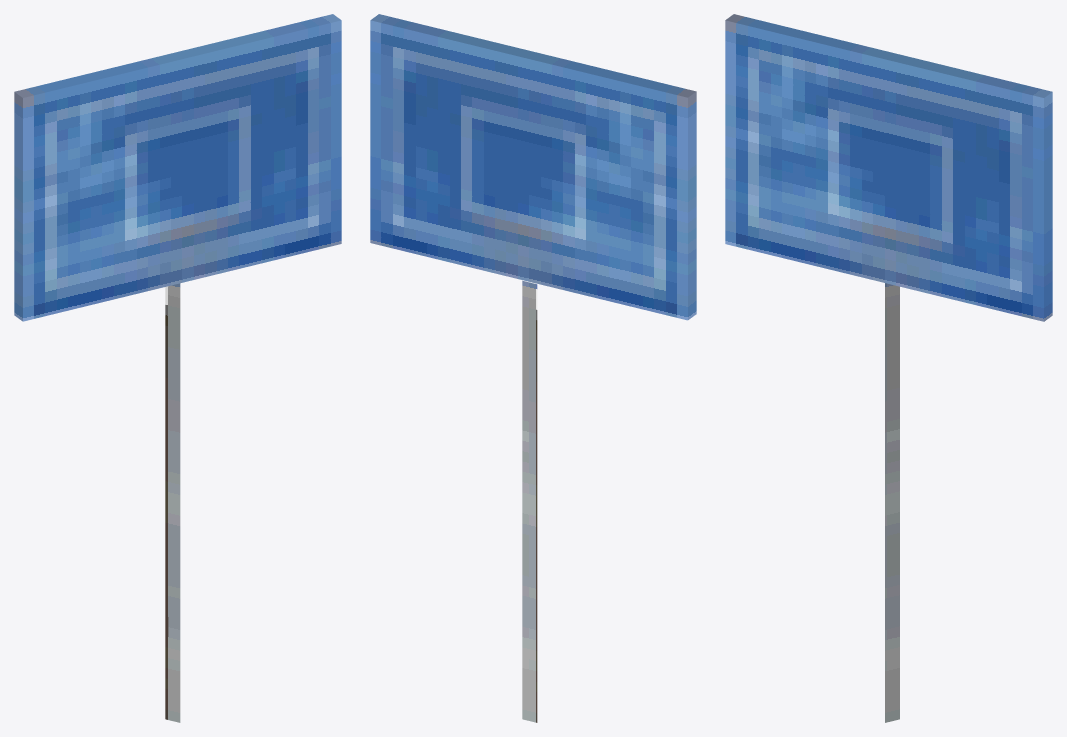
Rendered from HOOP1.glb.
3 views of the same model, side by side, from view 1: azimuth 30°, elevation 25°; view 2: azimuth 150°, elevation 25°; view 3: azimuth 330°, elevation 25° (orthographic).
Parts seen in each view (by area): view 1: HOOP1; view 2: HOOP1; view 3: HOOP1.
Boxes of the visible parts, x1,y1,x2,y2 form: HOOP1: (14,14,341,722); HOOP1: (370,14,696,722); HOOP1: (725,14,1052,722).
Size of the model in its own units: 229 by 456 by 10.83.
1 material, 1 textured.
